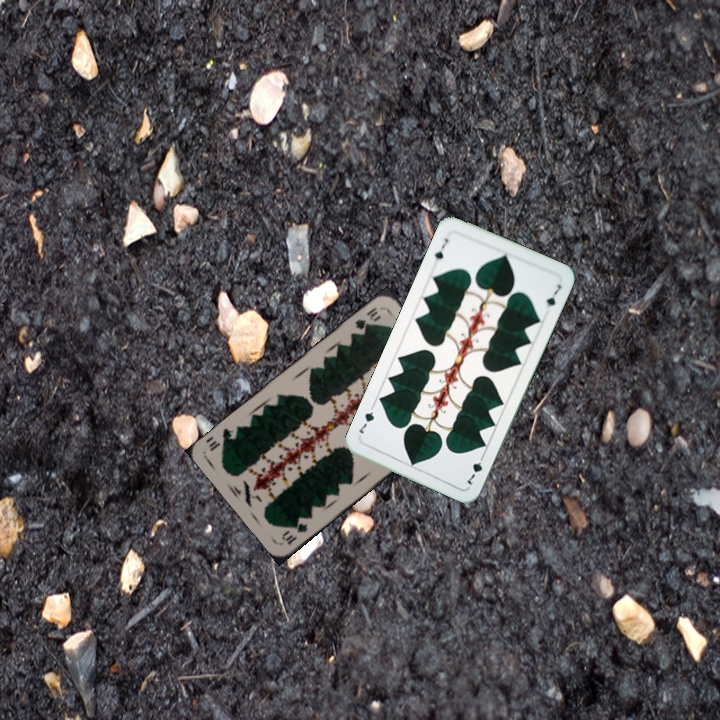G10: (351, 303, 384, 337), (278, 518, 310, 547)
G7: (463, 450, 487, 488), (429, 234, 451, 267)
